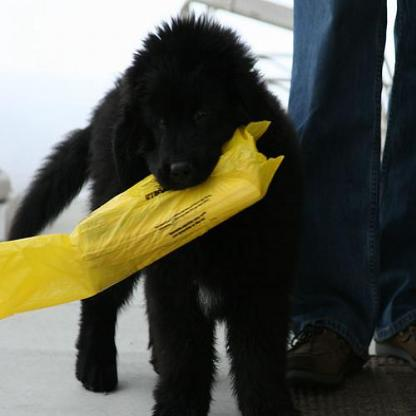Newfoundland: (7, 18, 300, 414)
